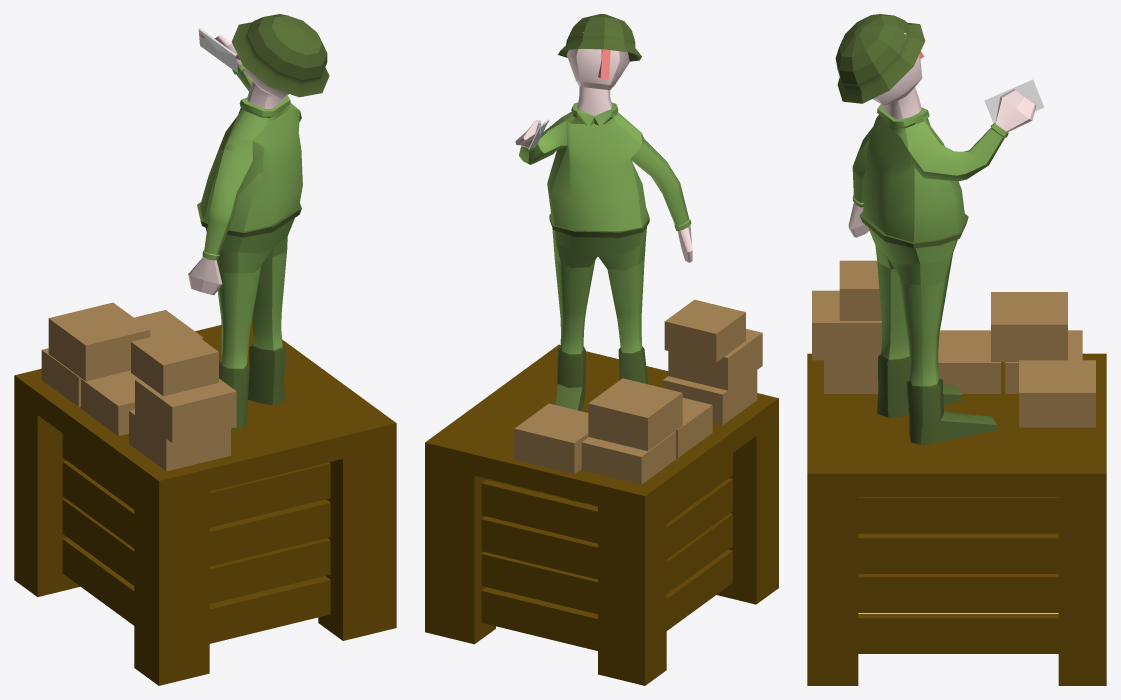
Rendered from ally.fbx.
The picture shows the model from 3 angles, left to right: view 1: azimuth 30°, elevation 25°; view 2: azimuth 150°, elevation 25°; view 3: azimuth 270°, elevation 25°; orthographic projection. The views are drawn at different scales.
Parts seen in each view (by area): view 1: pCube9, polySurface1, pCube13 (×2), pCube11 (×2), pCube12 (×2), pCube10 (×2), polySurface2, pCube16, pCube18, pCube19, pCube17, pCube15 (+3 smaller); view 2: pCube9, polySurface1, pCube13 (×2), pCube11 (×2), pCube12 (×2), pCube10 (×2), pCube16, pCube20, pCube19, pCube14, pCube18, pCube17 (+2 smaller); view 3: pCube9, polySurface1, pCube11, pCube13, pCube12, pCube10, polySurface2, pCube16, pCube20, pCube18, pCube15, pCube19 (+3 smaller).
Part boxes in pixels (x1,y1,x2,y2): pCube9: (14,318,396,685); polySurface1: (188,34,302,429); pCube13 (×2): (62,537,330,643); pCube11 (×2): (62,460,330,566); pCube12 (×2): (62,498,330,603); pCube10 (×2): (62,434,330,527); polySurface2: (231,14,329,97); pCube16: (48,302,150,381); pCube18: (135,378,236,442); pCube19: (131,328,218,396); pCube17: (129,409,230,471); pCube15: (81,370,138,435); pCube9: (425,344,778,685); polySurface1: (515,32,692,410); pCube13 (×2): (481,549,732,650); pCube11 (×2): (481,478,732,579); pCube12 (×2): (481,513,732,614); pCube10 (×2): (481,453,732,543); pCube16: (588,378,682,451); pCube20: (514,403,588,473); pCube19: (664,299,745,362); pCube14: (581,431,675,484); pCube18: (668,329,762,390); pCube17: (663,369,757,425); pCube9: (807,353,1106,685); polySurface1: (848,33,1036,444); pCube11: (858,533,1058,573); pCube13: (858,613,1058,653); pCube12: (858,574,1058,612); pCube10: (858,497,1058,533); polySurface2: (835,14,925,103); pCube16: (991,292,1067,361); pCube20: (1019,360,1095,427); pCube18: (812,290,881,360); pCube15: (938,330,1000,393); pCube19: (839,260,881,320).
Size of the model in its own units: 74.82 by 182 by 78.79.
